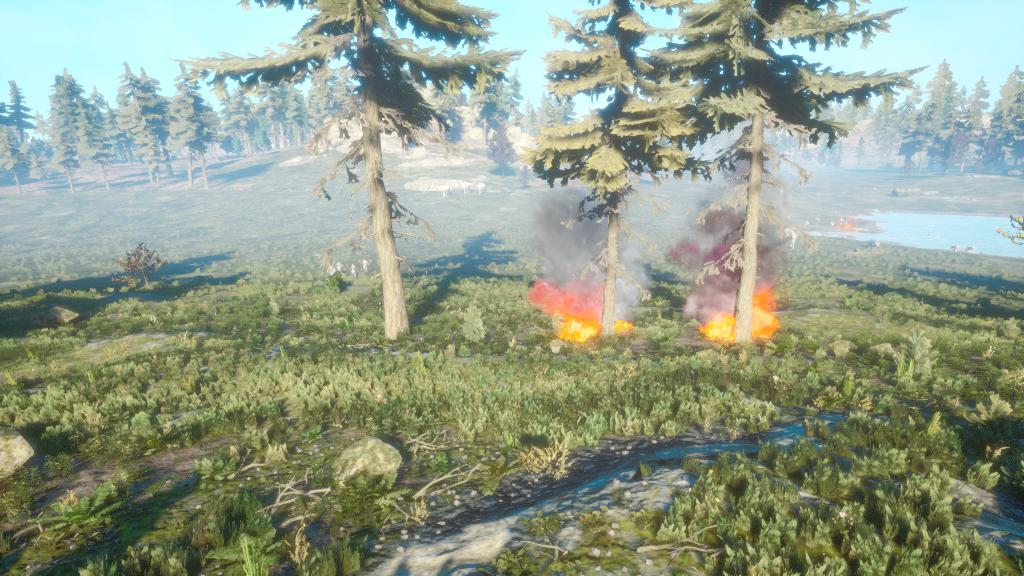Fire: (534, 278, 626, 336), (706, 294, 779, 346)
human: (359, 252, 378, 277), (333, 256, 348, 275), (349, 261, 361, 281)
smoke: (702, 222, 783, 287), (549, 198, 614, 272)
